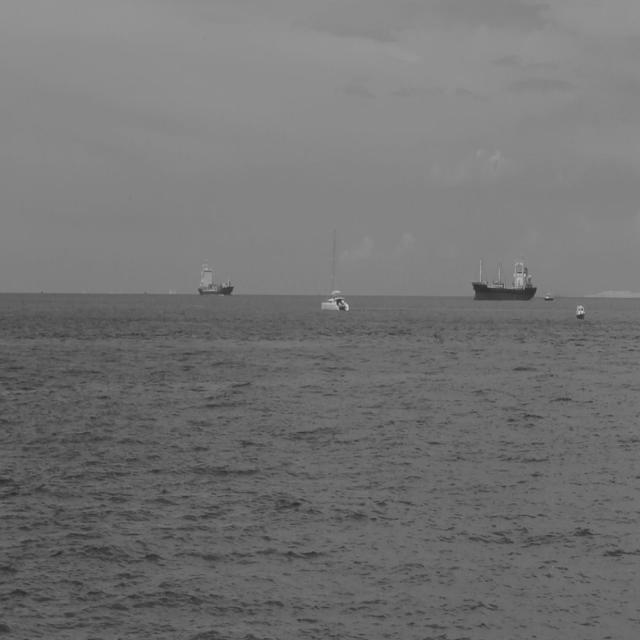boat: (320, 222, 351, 313)
ship: (469, 250, 538, 304), (197, 259, 234, 298), (574, 301, 586, 321), (544, 292, 554, 301)
